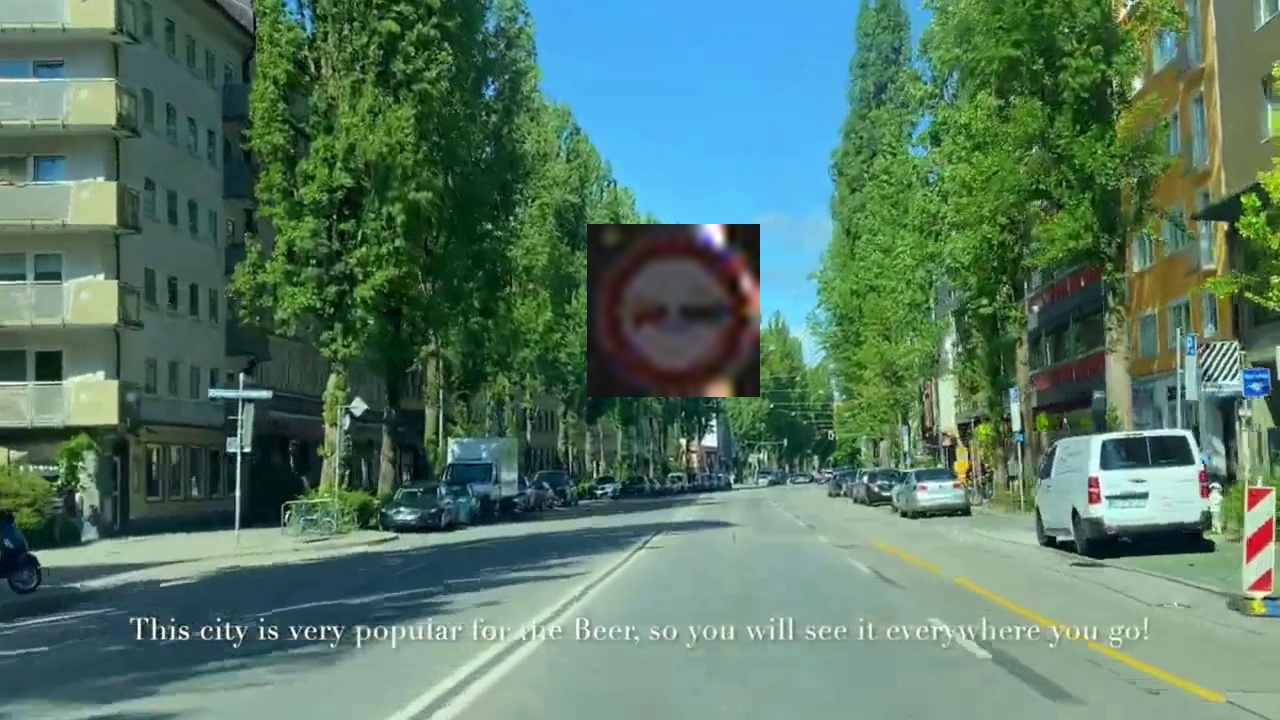No passing: (587, 224, 760, 397)
